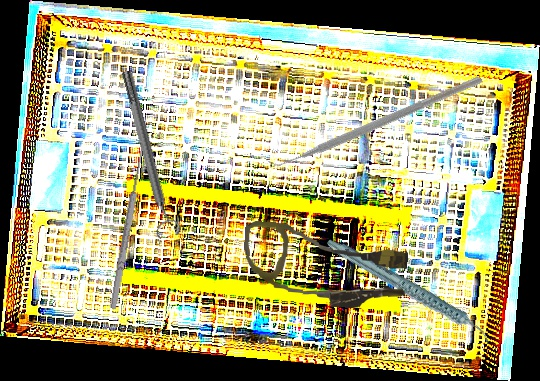Cannula: (240, 220, 410, 312)
Chopper: (261, 1, 483, 236)
Fixation Ring: (114, 67, 183, 241)
Handpiece: (324, 208, 494, 375)
Hook Surgical: (101, 139, 149, 310)
